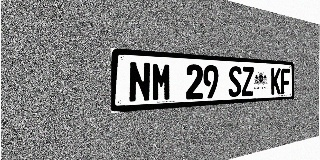2: (186, 64, 203, 100)
9: (203, 65, 218, 99)
F: (281, 68, 290, 94)
K: (271, 68, 281, 95)
M: (151, 62, 171, 102)
N: (128, 61, 151, 103)
S: (228, 66, 241, 97)
Z: (242, 66, 254, 96)
